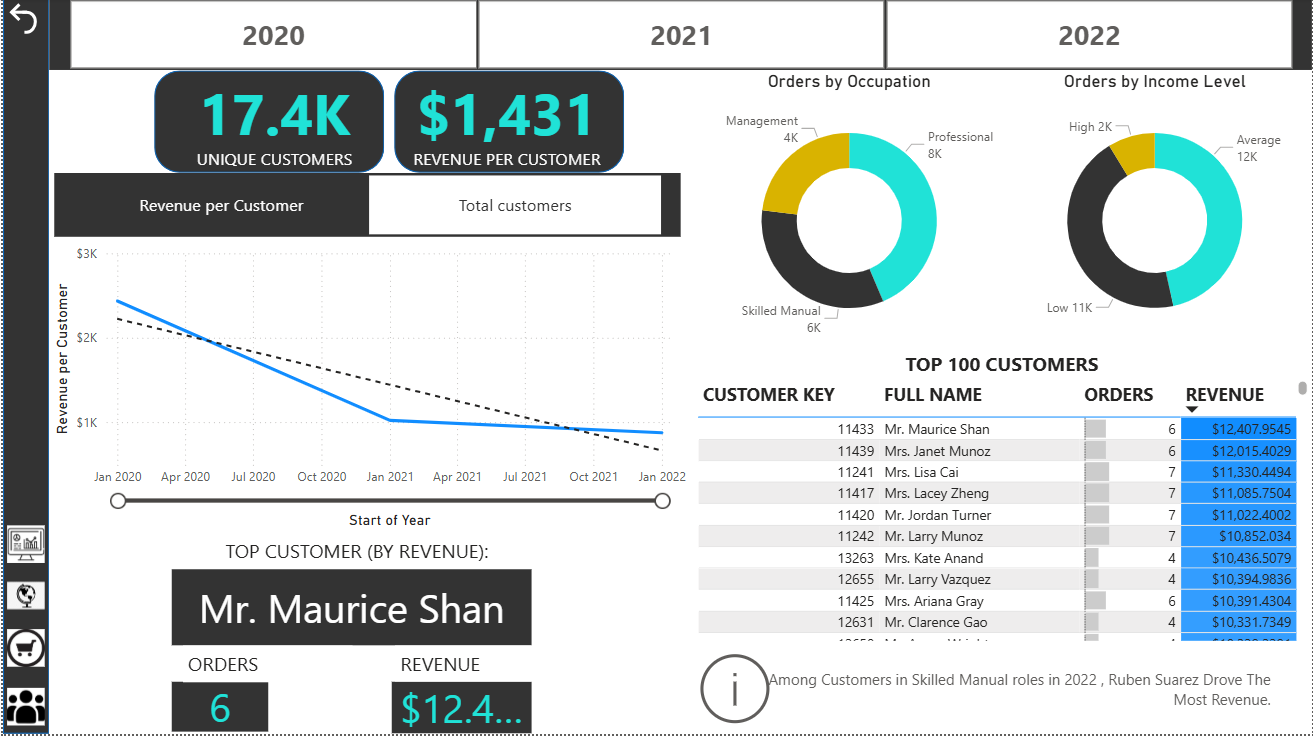

This screenshot's page, from the dashboard's own definition file:
{"tool":"powerbi","page":{"name":"Customer Details","canvas":[1280,720],"ordinal":3},"visuals":[{"type":"group","id":"g1","title":"KPI Cards","box":[148,70.9,459.6,100],"z":0,"group":"g2"},{"type":"group","id":"g2","title":"KPIs","box":[148,70.9,463.5,97.8],"z":0},{"type":"shape","box":[148,70.9,225,100],"z":0,"group":"g1"},{"type":"card","fields":{"Values":["Table measure.Revenue per Customer"]},"box":[379.1,70.9,230.8,99.6],"z":0,"group":"g3"},{"type":"actionButton","box":[0,508.5,45.1,50.7],"z":0,"group":"g4"},{"type":"group","id":"g3","title":"KPI Values","box":[151.1,70.9,458.8,99.6],"z":1000,"group":"g2"},{"type":"card","fields":{"Values":["Table measure.Total customers"]},"box":[151.1,70.9,230.8,99.6],"z":1000,"group":"g3"},{"type":"shape","box":[382.6,70.9,225,100],"z":1000,"group":"g1"},{"type":"lineChart","title":"CUSTOMERS TRENDING","fields":{"Category":["Calendar Lookup.Start of Year","Calendar Lookup.Start of Quarter","Calendar Lookup.Start of Month","Calendar Lookup.Start of Week"],"Y":["Table measure.Revenue per Customer"]},"box":[45.2,236,628.5,287.4],"z":1000},{"type":"actionButton","box":[0,609.9,45.1,50.7],"z":1000,"group":"g4"},{"type":"donutChart","title":" Orders by Income Level","fields":{"Category":["Customer Lookup.Income Level"],"Y":["Table measure.Total Orders"]},"box":[973.2,70.4,307,274.6],"z":2000},{"type":"actionButton","box":[0,559.2,45.1,50.7],"z":2000,"group":"g4"},{"type":"donutChart","title":" Orders by Occupation","fields":{"Category":["Customer Lookup.Occupation"],"Y":["Table measure.Total Orders"]},"box":[673.2,70.4,308.5,274.6],"z":3000},{"type":"actionButton","box":[0,667.7,45.1,50.7],"z":3000,"group":"g4"},{"type":"tableEx","title":"TOP 100 CUSTOMERS","fields":{"Values":["Customer Lookup.CustomerKey","Customer Lookup.Full Name","Table measure.Total Orders","Table measure.Total Revenue"]},"box":[673.2,345.1,607,288.7],"z":4000},{"type":"card","fields":{"Values":["Table measure.Full Name (Customer Detail)"]},"box":[164.8,559.2,352.1,74.6],"z":5000},{"type":"card","fields":{"Values":["Table measure.Total Orders (Customer Detail)"]},"box":[165.3,669.4,94.4,48.6],"z":6000},{"type":"card","fields":{"Values":["Table measure.TOtal Revenue (Customer Detail)"]},"box":[380.3,669,136.6,50.7],"z":7000},{"type":"textbox","box":[176.4,633.3,165.3,36.1],"z":8000},{"type":"textbox","box":[384.5,633.8,164.8,35.2],"z":9000},{"type":"textbox","box":[212.7,523.9,304.2,35.2],"z":10000},{"type":"slicer","fields":{"Values":["Calendar Lookup.Year"]},"box":[45.1,0,1235.2,70.4],"z":11000},{"type":"actionButton","box":[673.2,633.8,570.4,84.5],"z":11001},{"type":"shape","title":"Left Nav Bar","box":[0,0,45.1,719.7],"z":11003},{"type":"actionButton","box":[0,0,100,40],"z":11004},{"type":"group","id":"g4","title":"Navigation Buttons","box":[0,508.5,45.1,209.9],"z":11005},{"type":"slicer","fields":{"Values":["Customer Metric Selection.Customer Metric Selection"]},"box":[50.1,171.2,612.6,62.4],"z":11006}]}

Visuals, with their boxes in screenshot pixels (x1, y1, x2, y2), scaled from the page's 1280x720 canvas onto the 1313x736 screenshot:
"KPI Cards" group: l=152, t=72, r=623, b=175
"KPIs" group: l=152, t=72, r=627, b=172
shape: l=152, t=72, r=383, b=175
card - Table measure.Revenue per Customer: l=389, t=72, r=626, b=174
actionButton: l=0, t=520, r=46, b=572
"KPI Values" group: l=155, t=72, r=626, b=174
card - Table measure.Total customers: l=155, t=72, r=392, b=174
shape: l=392, t=72, r=623, b=175
"CUSTOMERS TRENDING" lineChart: l=46, t=241, r=691, b=535
actionButton: l=0, t=623, r=46, b=675
" Orders by Income Level" donutChart: l=998, t=72, r=1312, b=353
actionButton: l=0, t=572, r=46, b=623
" Orders by Occupation" donutChart: l=691, t=72, r=1007, b=353
actionButton: l=0, t=683, r=46, b=734
"TOP 100 CUSTOMERS" tableEx: l=691, t=353, r=1312, b=648
card - Table measure.Full Name (Customer Detail): l=169, t=572, r=530, b=648
card - Table measure.Total Orders (Customer Detail): l=170, t=684, r=266, b=734
card - Table measure.TOtal Revenue (Customer Detail): l=390, t=684, r=530, b=735
textbox: l=181, t=647, r=351, b=684
textbox: l=394, t=648, r=563, b=684
textbox: l=218, t=536, r=530, b=572
slicer - Calendar Lookup.Year: l=46, t=0, r=1312, b=72
actionButton: l=691, t=648, r=1276, b=734
"Left Nav Bar" shape: l=0, t=0, r=46, b=735
actionButton: l=0, t=0, r=103, b=41
"Navigation Buttons" group: l=0, t=520, r=46, b=734
slicer - Customer Metric Selection.Customer Metric Selection: l=51, t=175, r=680, b=239
